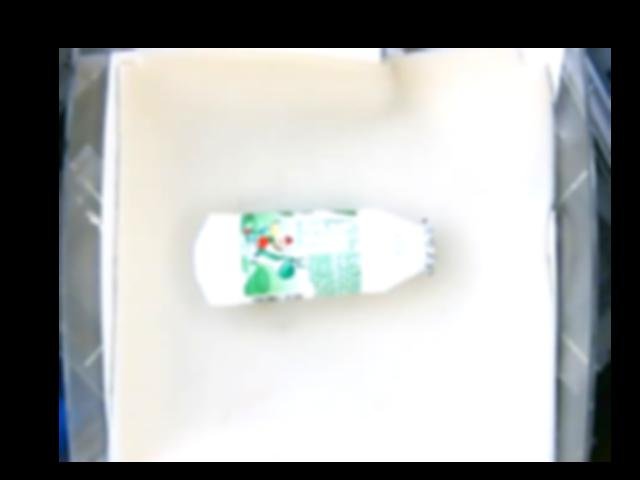Bottle: (197, 209, 435, 307)
